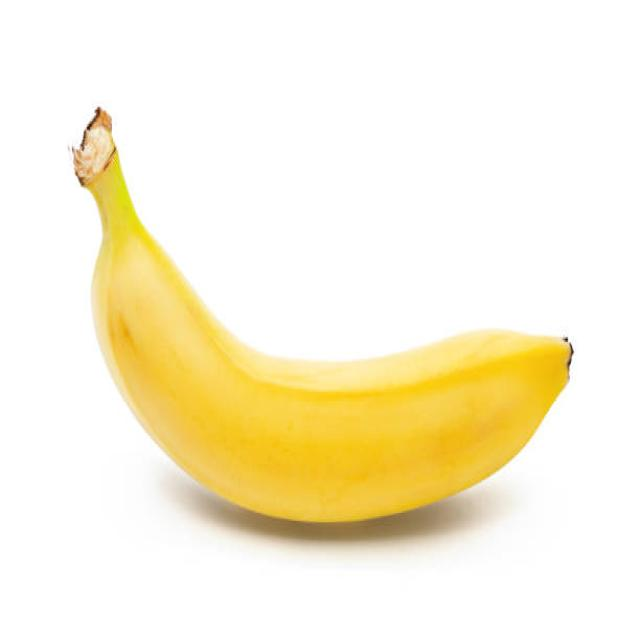Ripe: (77, 143, 573, 530)
